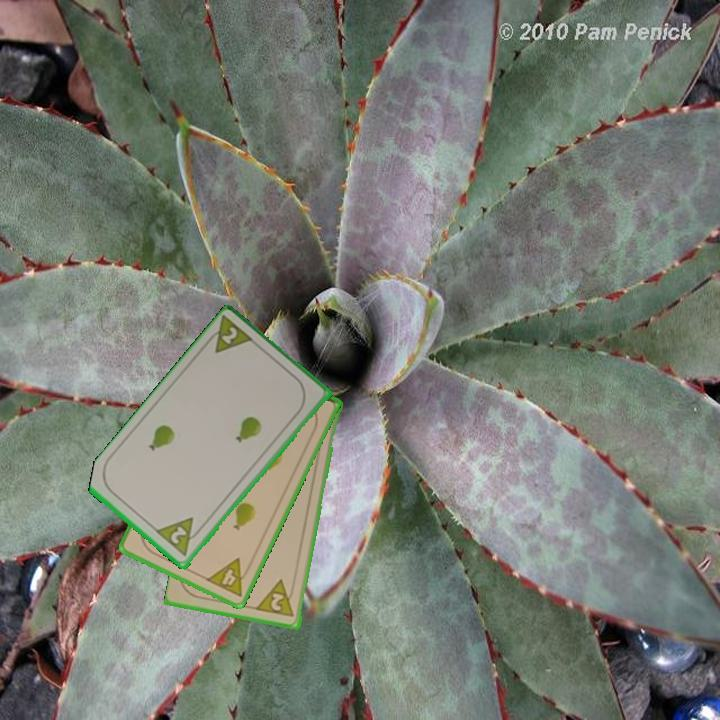2p: (200, 313, 258, 357), (153, 514, 206, 560), (254, 577, 297, 620)
4p: (202, 554, 255, 600)
